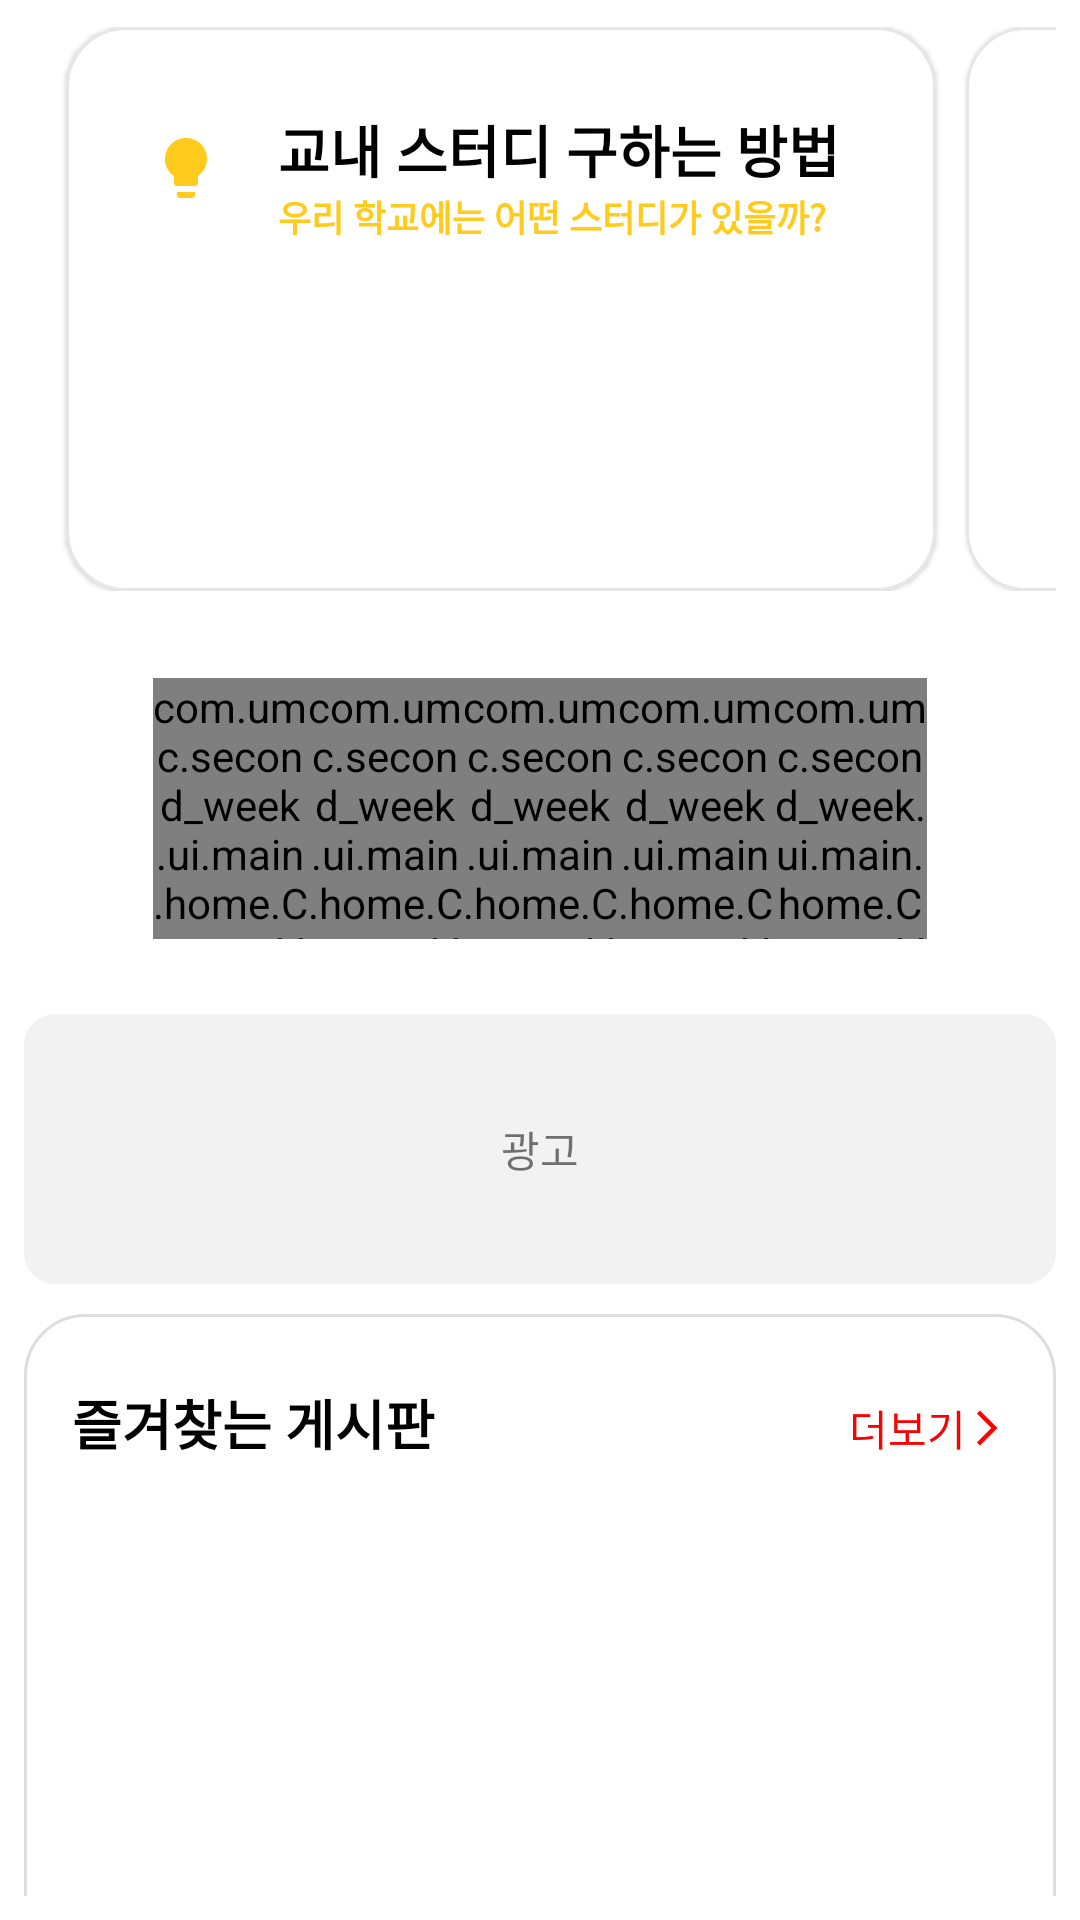

Icons on this 1080*1920 Android screen, each with its box as box(x1, y1, x2, y2):
lightbulb: box(165, 138, 207, 198)
